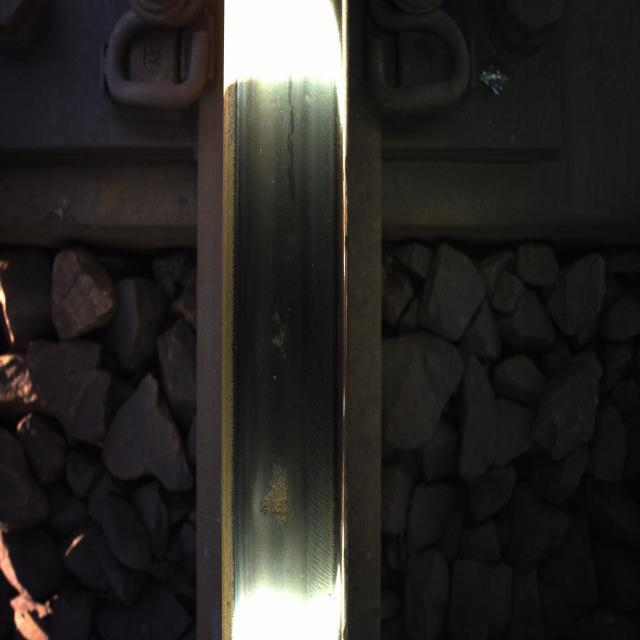crack: (240, 447, 311, 542), (276, 67, 319, 216)
